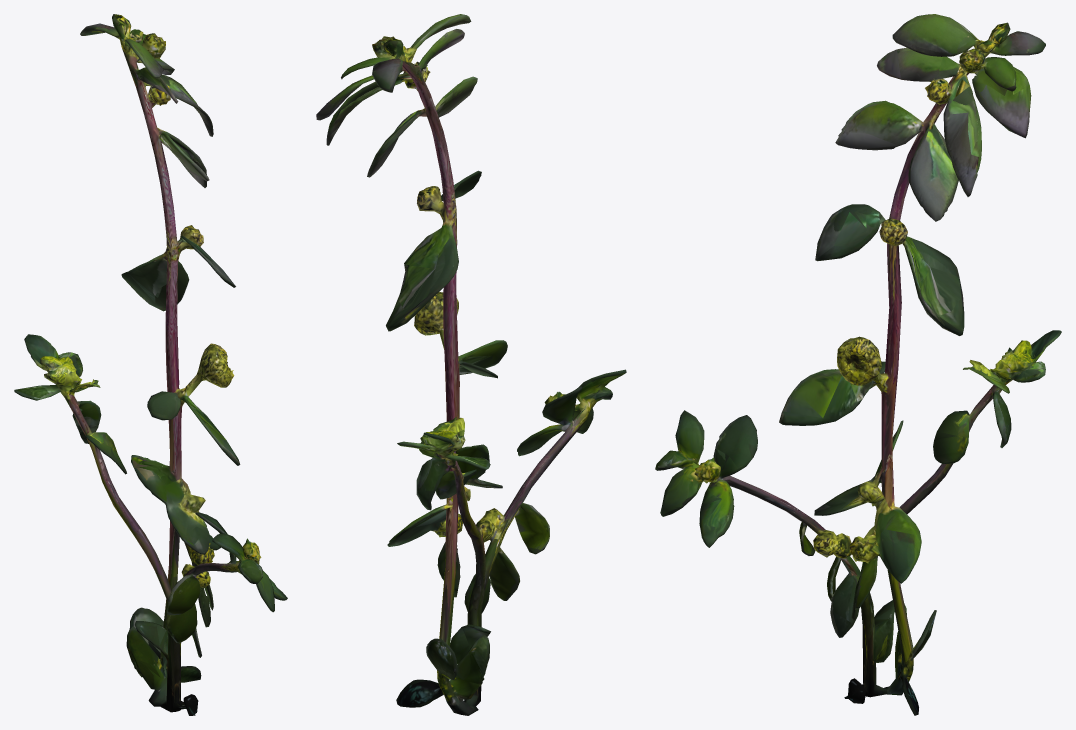
File: tawatawa new model.fbx
3 renders of one model, left to right at view 1: azimuth 30°, elevation 25°; view 2: azimuth 150°, elevation 25°; view 3: azimuth 270°, elevation 25°, orthographic. The views are drawn at different scales.
Visible parts, largest first — view 1: meshes[0]; view 2: meshes[0]; view 3: meshes[0].
Part boxes in pixels (left/top/right/bottom): meshes[0]: left=14, top=14, right=287, bottom=715; meshes[0]: left=316, top=14, right=626, bottom=715; meshes[0]: left=655, top=14, right=1061, bottom=715.
Size of the model in its own units: 27.84 by 100 by 54.56.
Materials: 1 (1 with a texture image).
